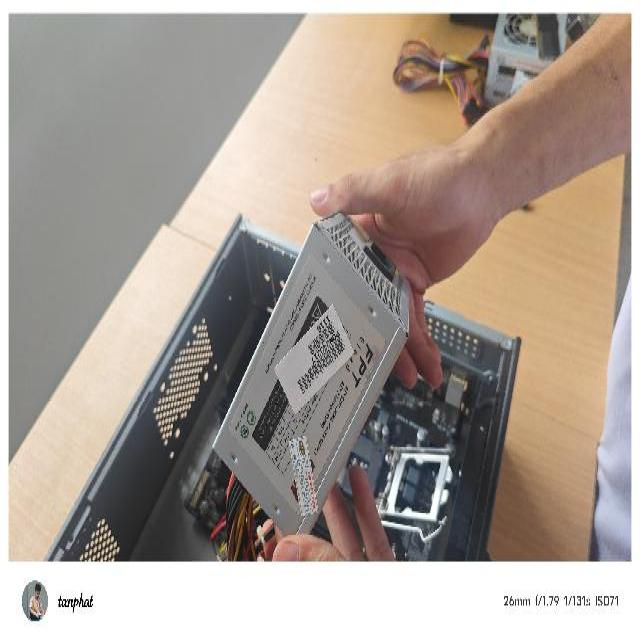PSU: (210, 206, 412, 542)
